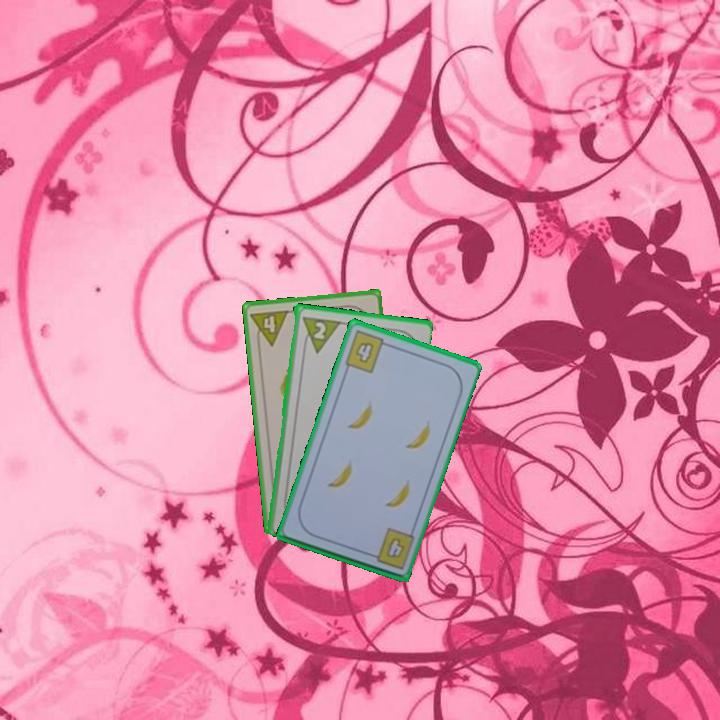2p: (298, 312, 341, 355)
4b: (341, 327, 393, 376), (365, 524, 417, 572)
4p: (247, 306, 291, 350)
